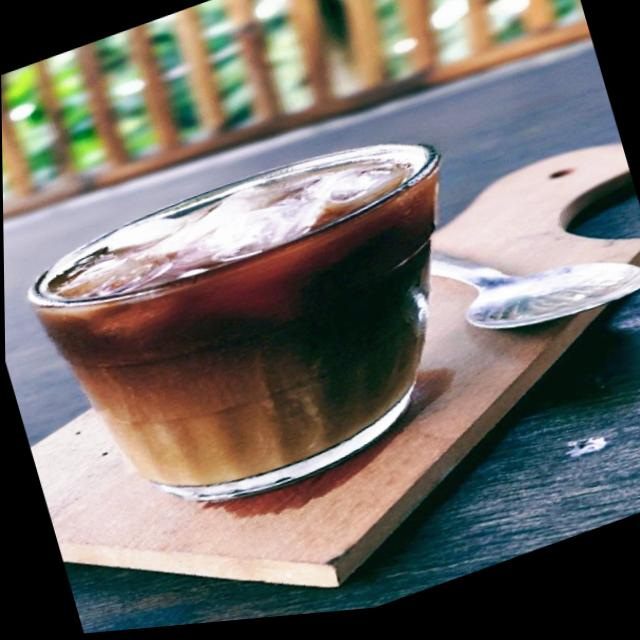drink: (31, 146, 439, 503)
